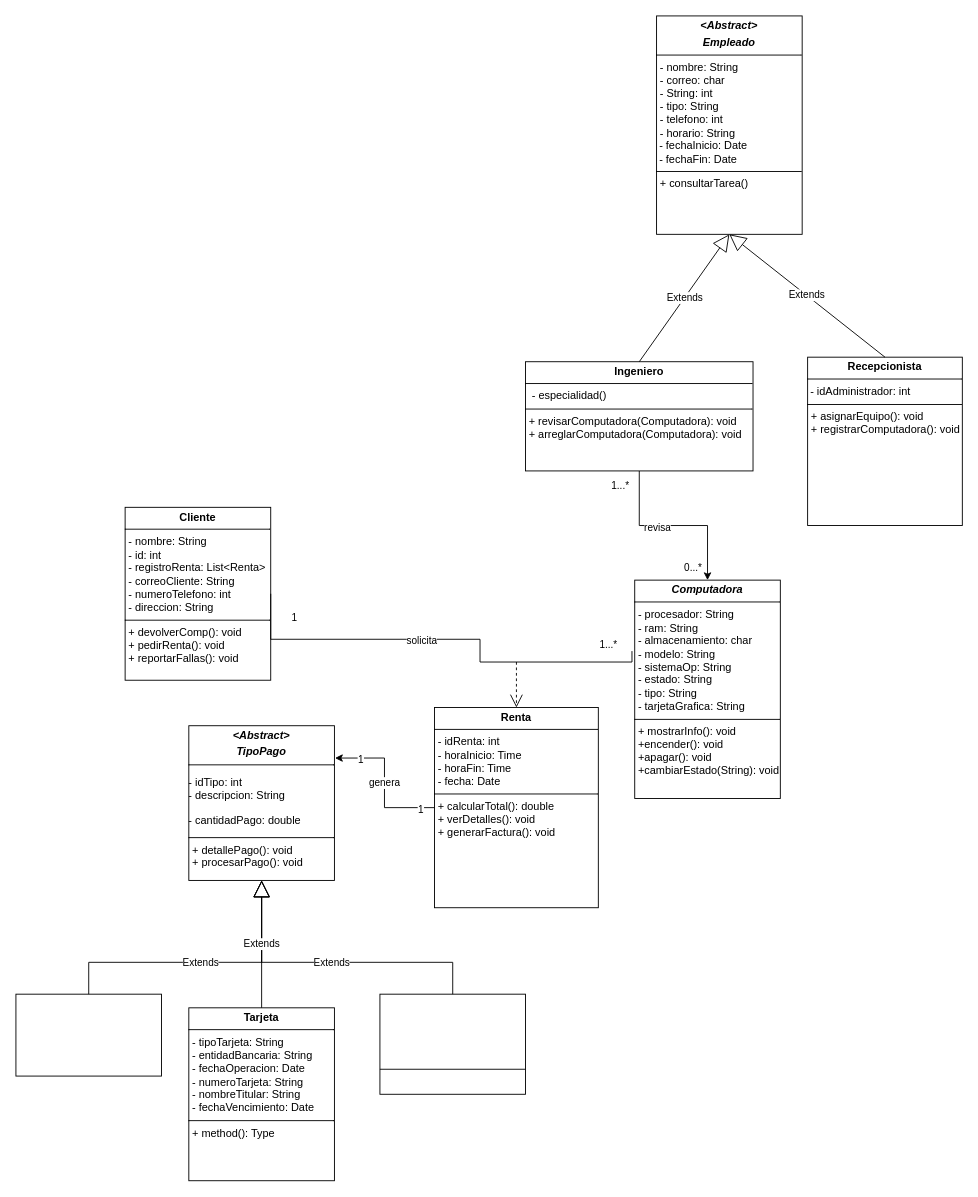
Image size: 978x1197. Some labels were removed from this diagram. Here are the shapes that lost their labels. From the top down, the centre of each, then its label:
At pixel 88 1034: "Fisico - cantidadRecibida: double - cambio: double".
At pixel 452 1043: "Linea - proveedor: String - referenciaNumero: String".
